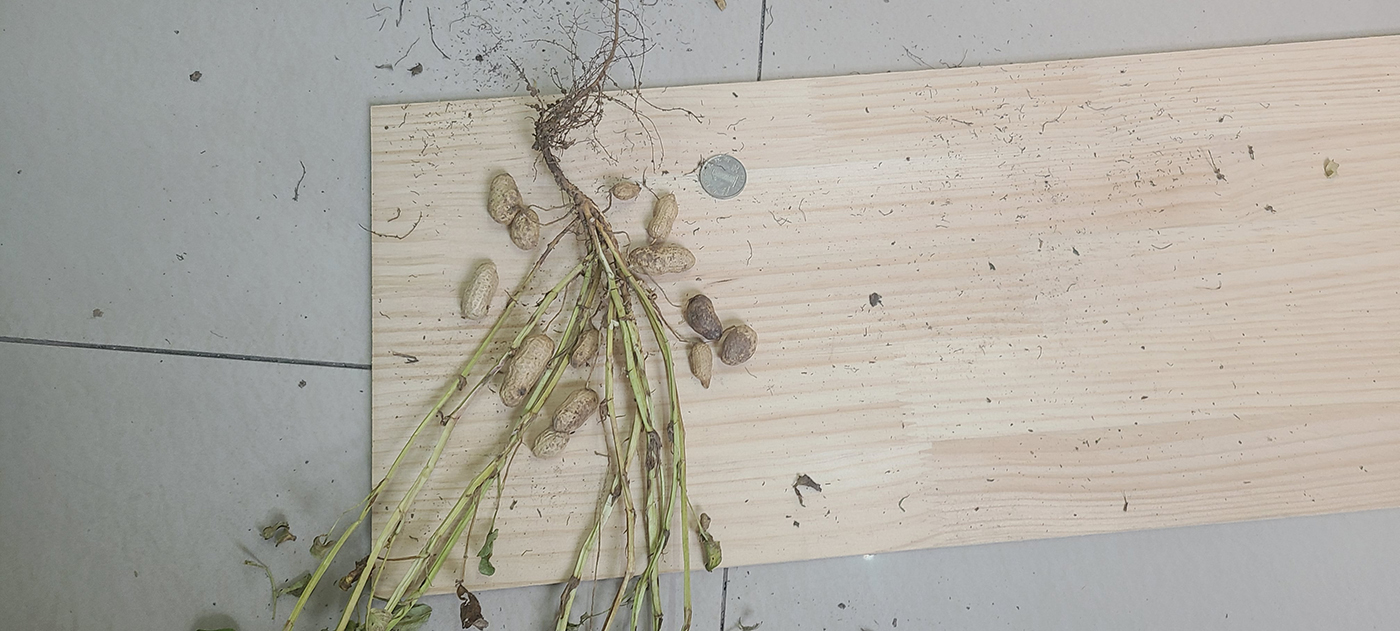h: (531, 387, 600, 457), (496, 333, 554, 408), (628, 244, 695, 276), (461, 260, 497, 319), (486, 172, 521, 225), (647, 193, 679, 240), (569, 328, 603, 368), (510, 209, 541, 250)
l: (685, 291, 723, 341), (719, 325, 759, 365)
